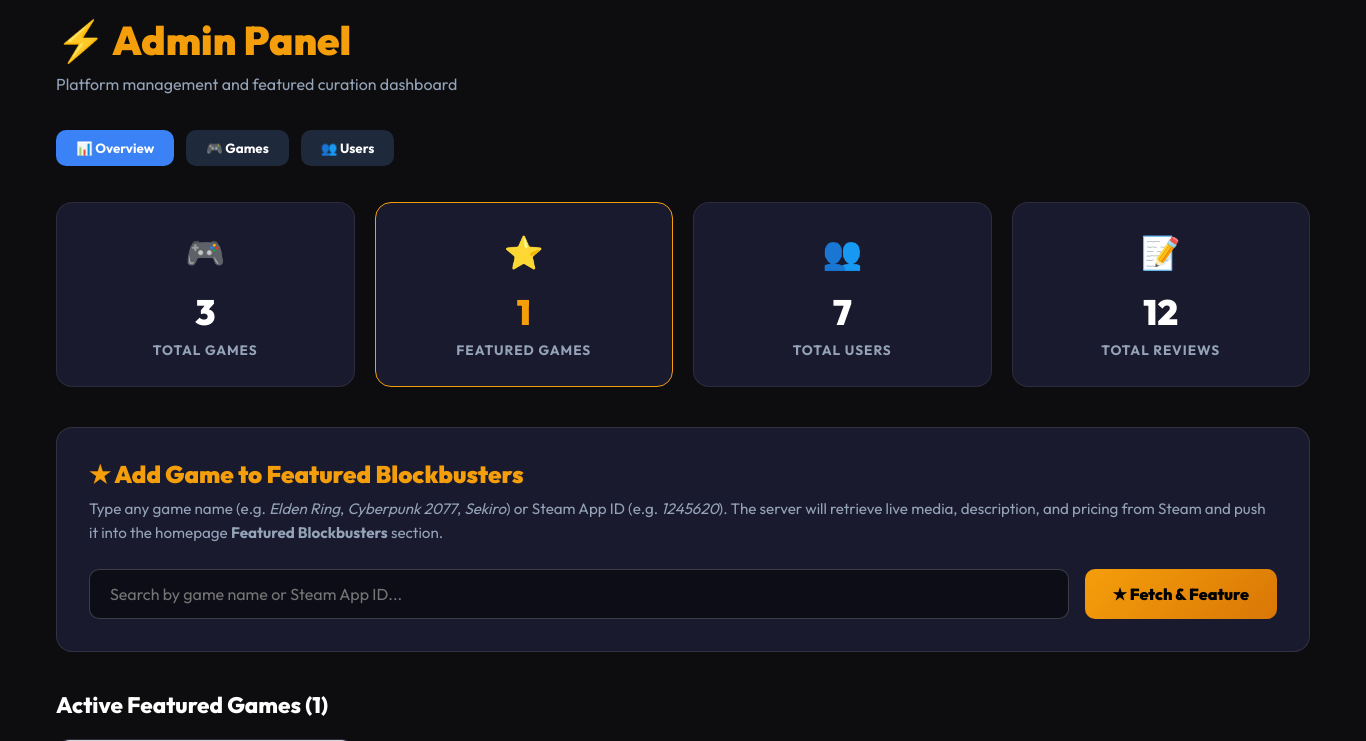
Test: AdminPanel › games management tab › defaults to an empty featured list when refreshFeatured's re-fetch has no data.data
The image size is (1366, 741).
Click the button "🎮 Games".
click(238, 148)  # box [186,130,289,166]
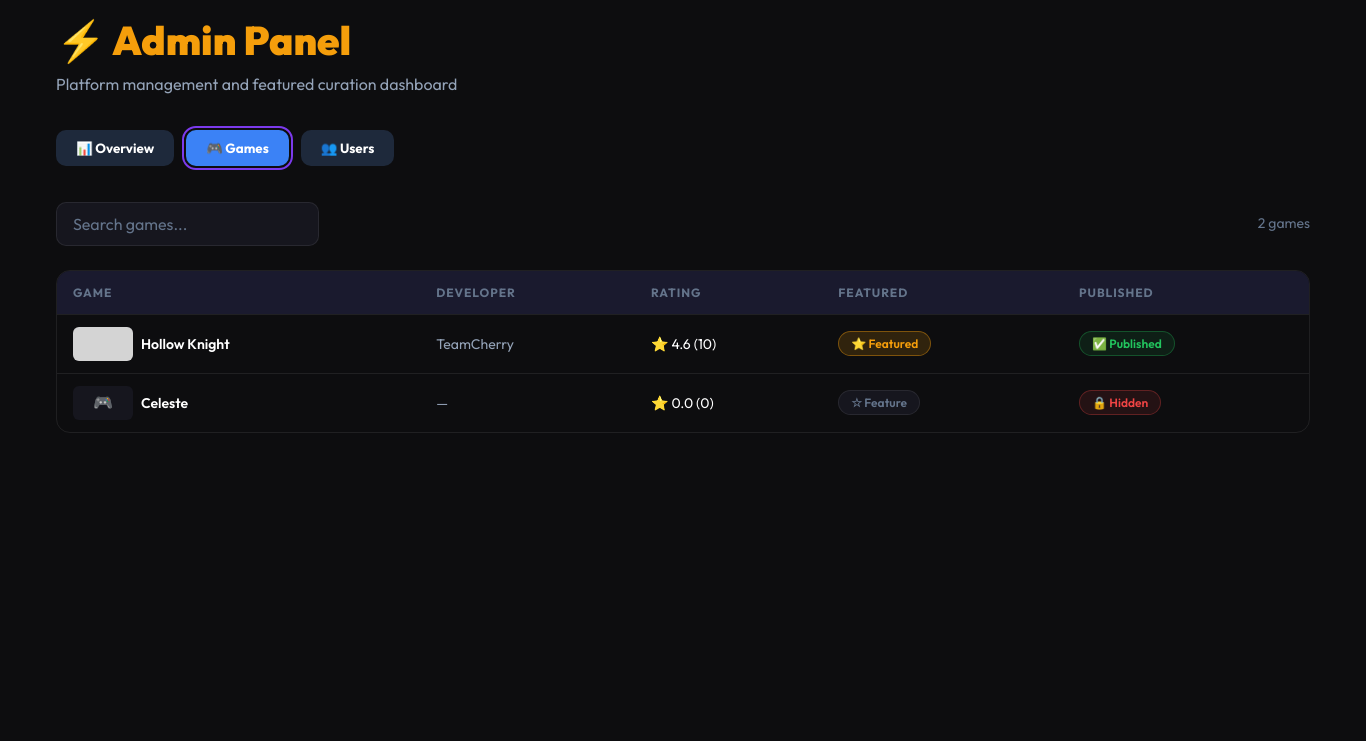
Expected: the text "Hollow Knight" is shown, [141,333,230,355]
Click the button "☆ Feature".
click(879, 403)  # box [838,390,920,415]
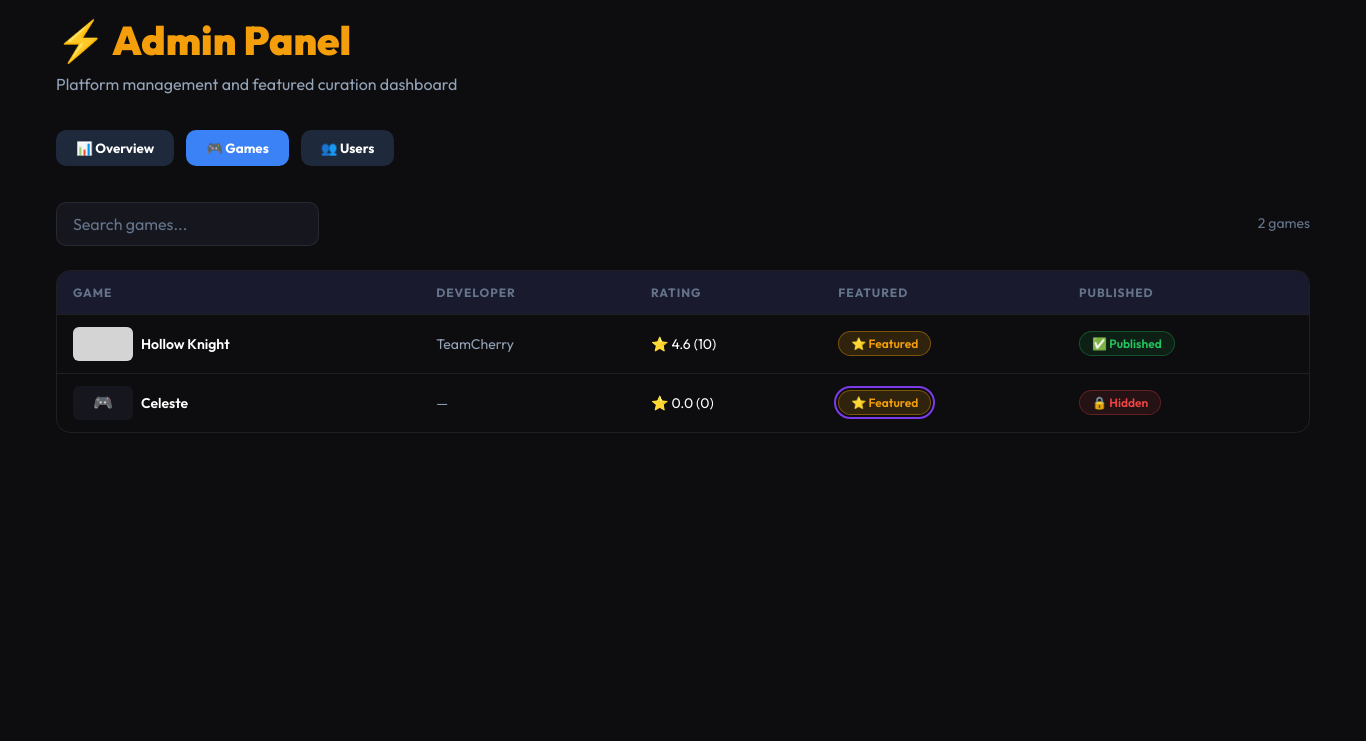
Click the button "📊 Overview".
click(115, 148)  # box [56,130,174,166]
(page scrolled)
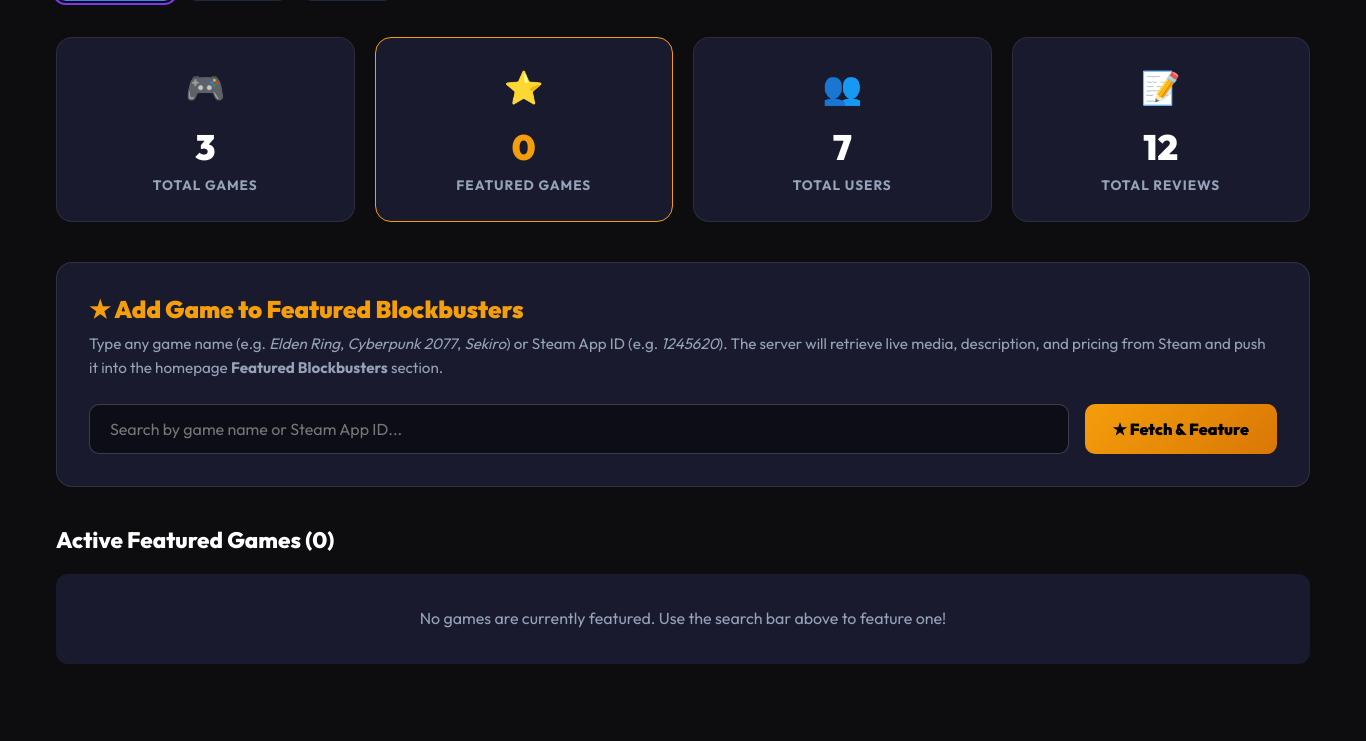
Expected: the text "No games are currently featured" is shown, [420,608,946,628]
